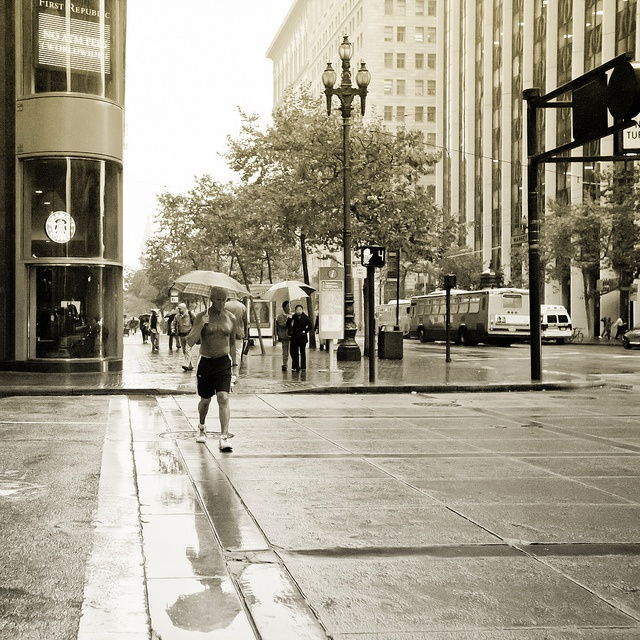non-vehicle: (566, 326, 585, 342), (148, 329, 160, 352)
